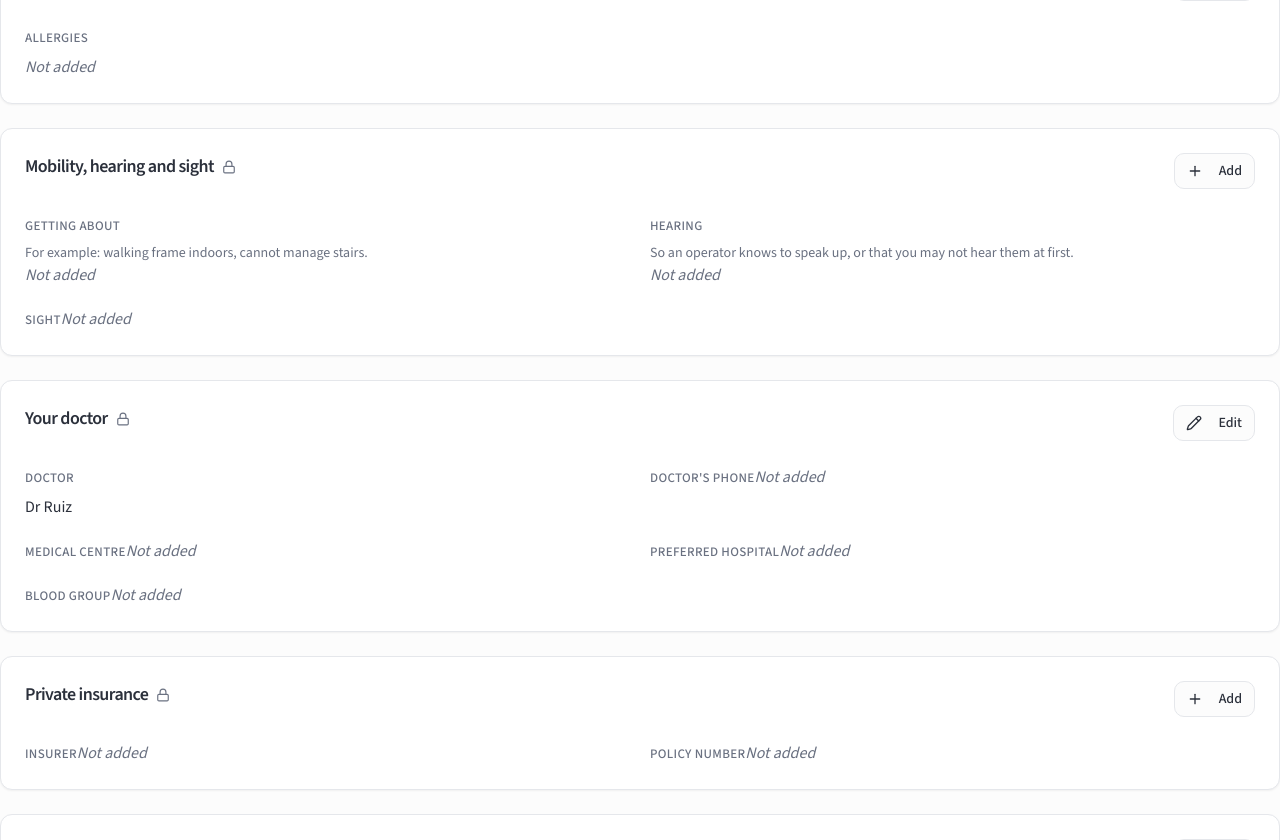
Test: the page renders all of them › sends EVERY field on save, with empties as null
(page scrolled)
What coordinates should you click on to do the following:
click the button with test id "medical-section-doctor-edit"
I would click on:
 (1214, 423)
Its box is [1173, 405, 1255, 441].
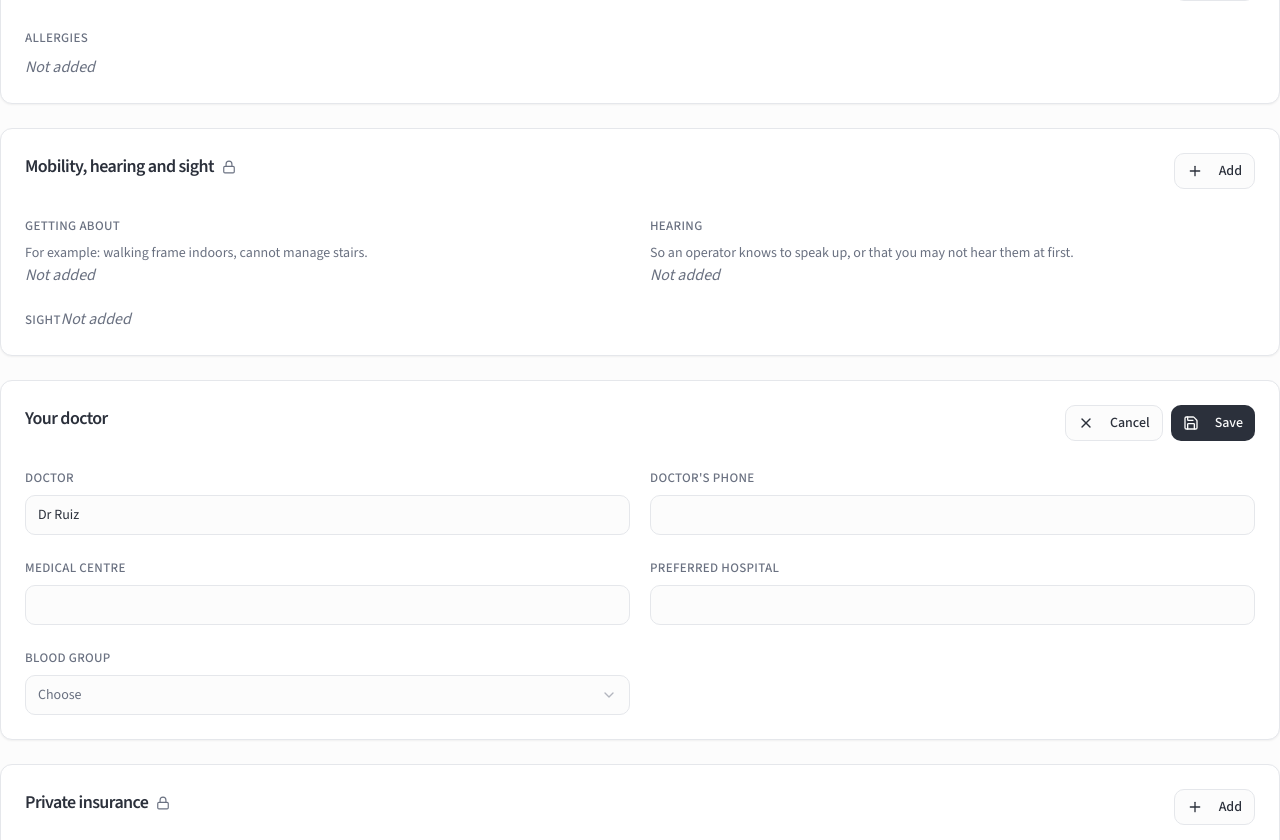
What coordinates should you click on to do the following:
click the button with test id "medical-section-doctor-save"
I would click on:
 (1213, 423)
Its box is [1171, 405, 1255, 441].
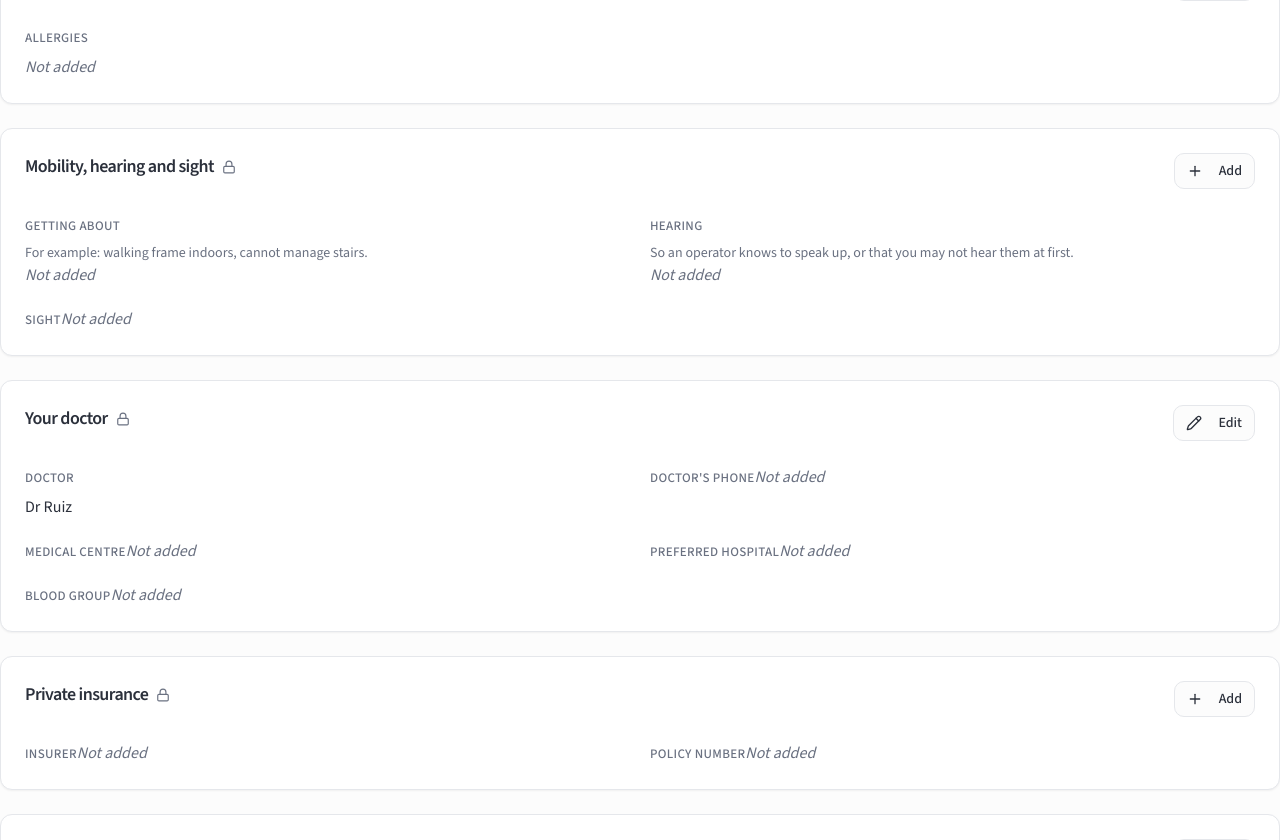
expect the text "Dr Ruiz" is shown: met, box [25, 496, 72, 518]
